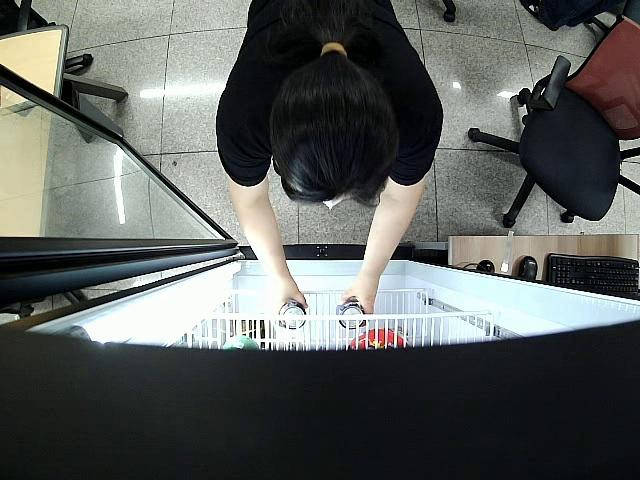00_hand: (266, 279, 309, 327), (337, 281, 375, 325)
14_welchsGrape: (337, 301, 365, 330), (277, 302, 305, 330)
